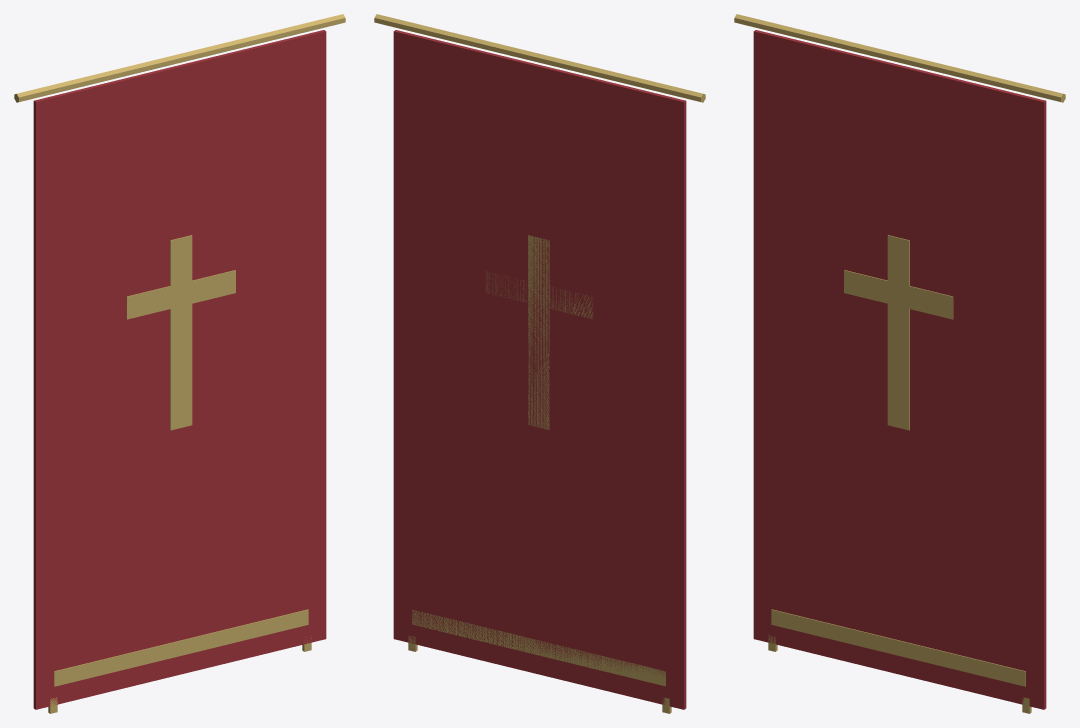
The model's file is banner.glb.
The picture shows the model from 3 angles, left to right: view 1: azimuth 30°, elevation 25°; view 2: azimuth 150°, elevation 25°; view 3: azimuth 330°, elevation 25°; orthographic projection.
Parts seen in each view (by area): view 1: Banner; view 2: Banner; view 3: Banner.
Part boxes in pixels (bbox=[...]): Banner: bbox=[14, 14, 345, 713]; Banner: bbox=[374, 14, 705, 713]; Banner: bbox=[734, 14, 1065, 713].
Size of the model in its own units: 0.9 by 1.65 by 0.0208.
